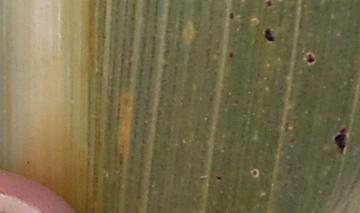tarspot: (333, 128, 347, 154), (304, 53, 317, 65), (264, 27, 275, 41), (228, 12, 236, 20), (251, 168, 258, 176), (216, 174, 222, 182), (266, 1, 273, 7), (229, 52, 234, 59)
